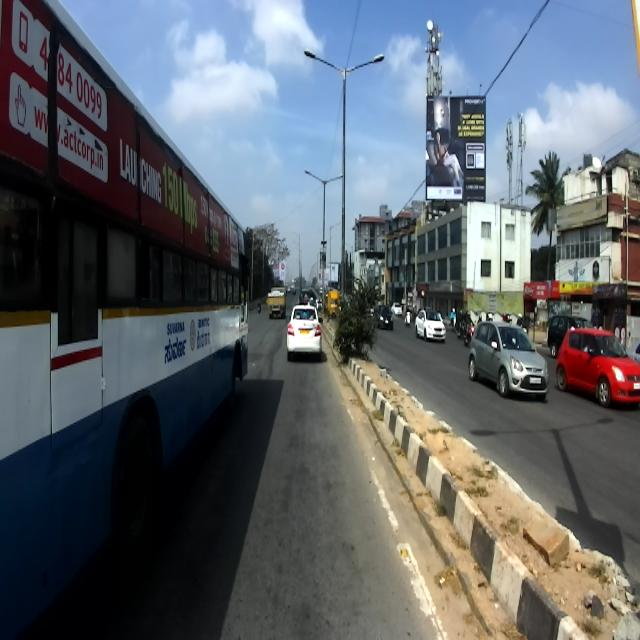car ahead at: (557, 321, 640, 410), (468, 317, 551, 402), (280, 298, 328, 364)
